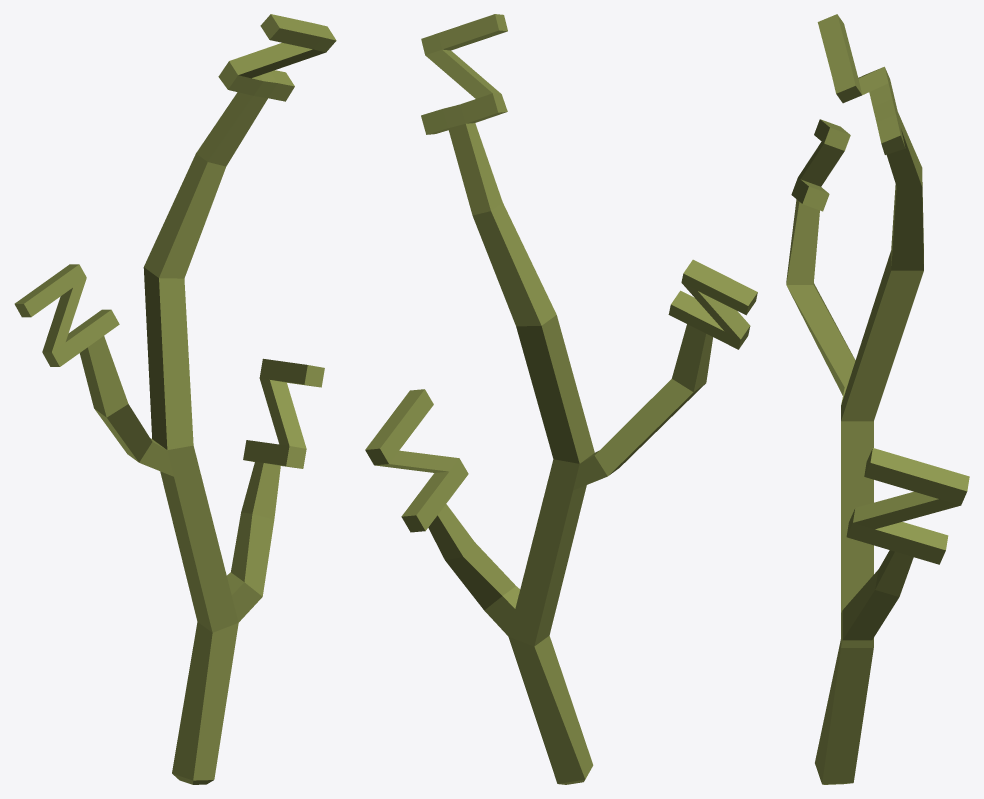
The model's file is VER 2 bedthyme.fbx.
3 renders of one model, left to right at view 1: azimuth 30°, elevation 25°; view 2: azimuth 150°, elevation 25°; view 3: azimuth 270°, elevation 25°, orthographic. The views are drawn at different scales.
Visible parts, largest first — view 1: bedthyme; view 2: bedthyme; view 3: bedthyme.
Part boxes in pixels (box(x1,y1,x2,y2)): bedthyme: box(14, 14, 336, 784); bedthyme: box(365, 14, 757, 784); bedthyme: box(786, 14, 969, 784).
Bounding box in the file's own units: 0.5437 × 0.2469 × 1.2.
